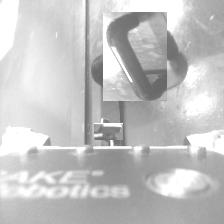Door Handle: (96, 18, 174, 94)
Lock: (97, 120, 120, 143)
